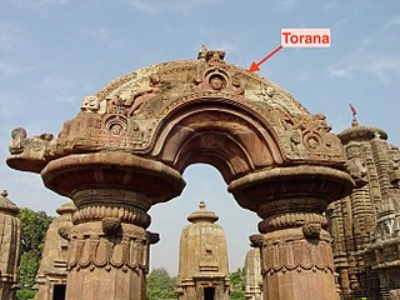torana: (26, 27, 358, 289)
